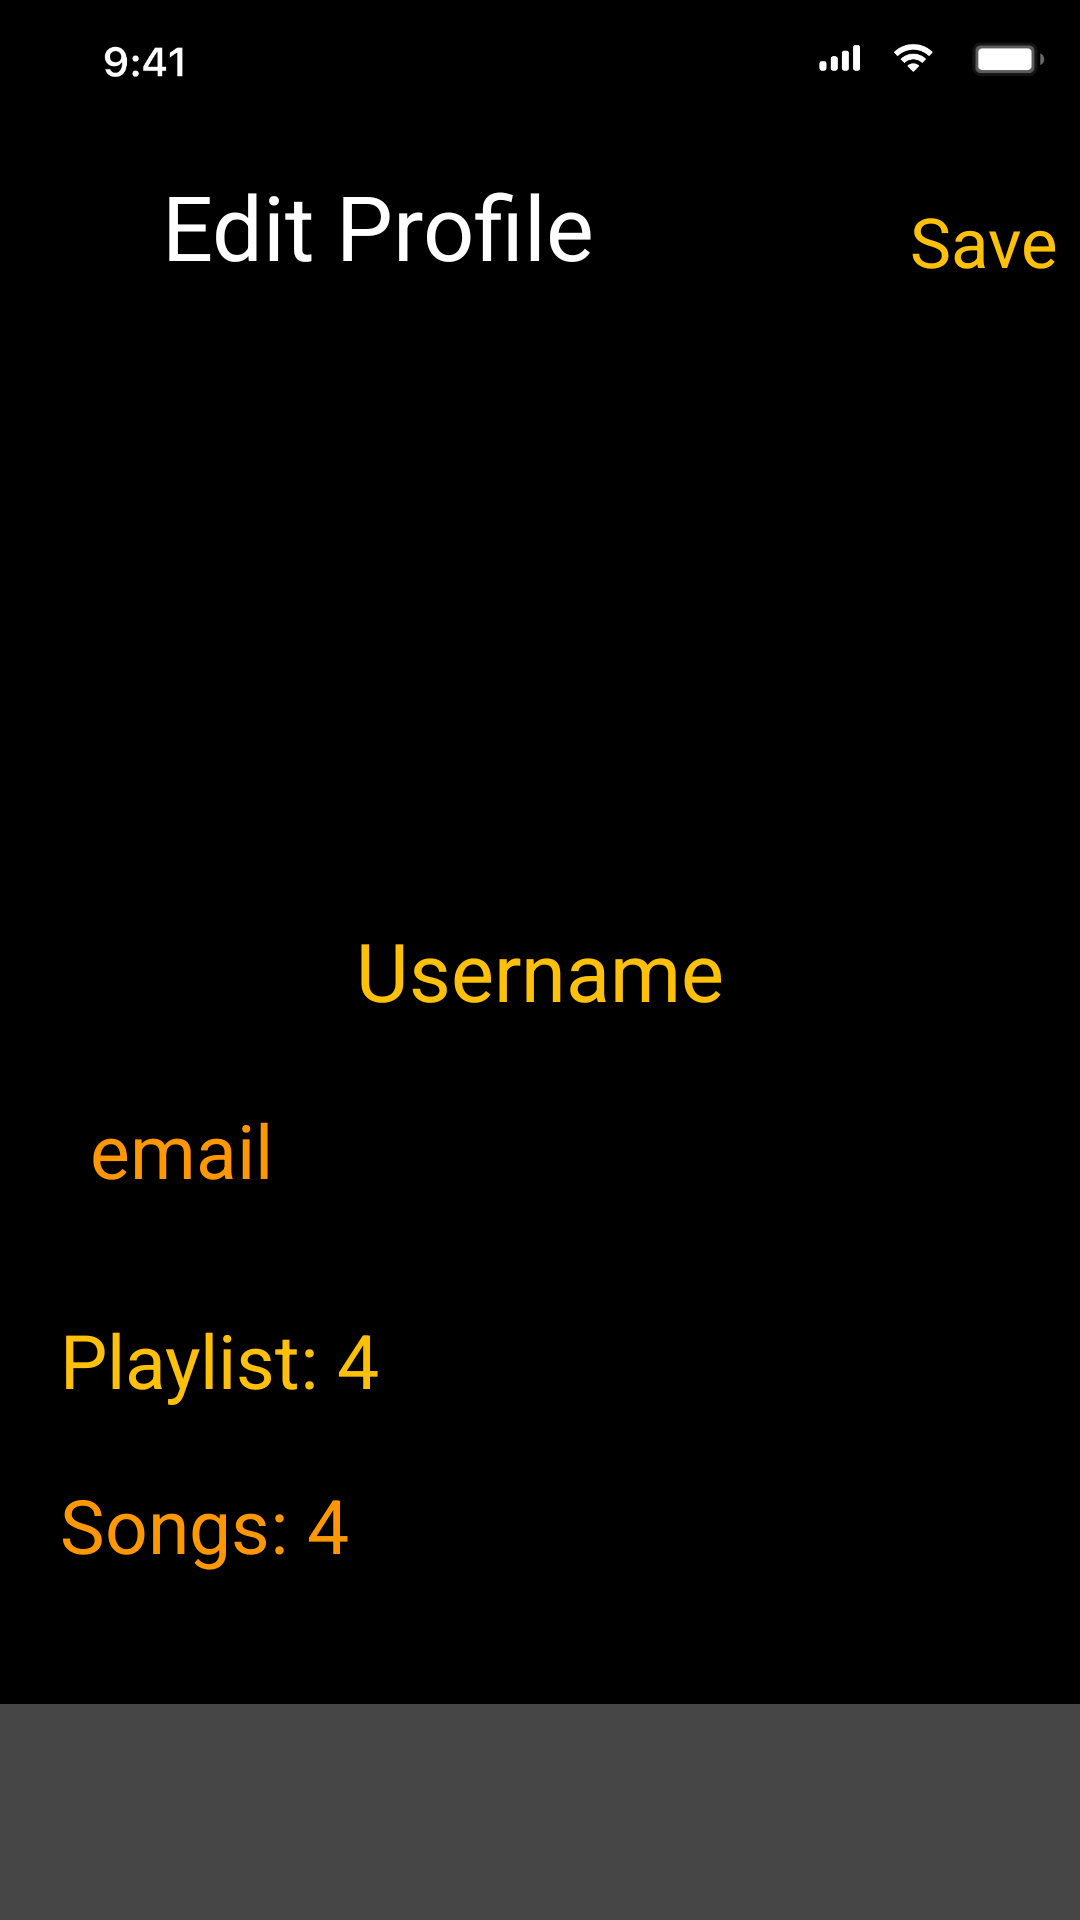

Icons on this 1080*1920 Android screen, each with its box as (x1, y1, x2, y2):
battery: (975, 45, 1044, 74)
